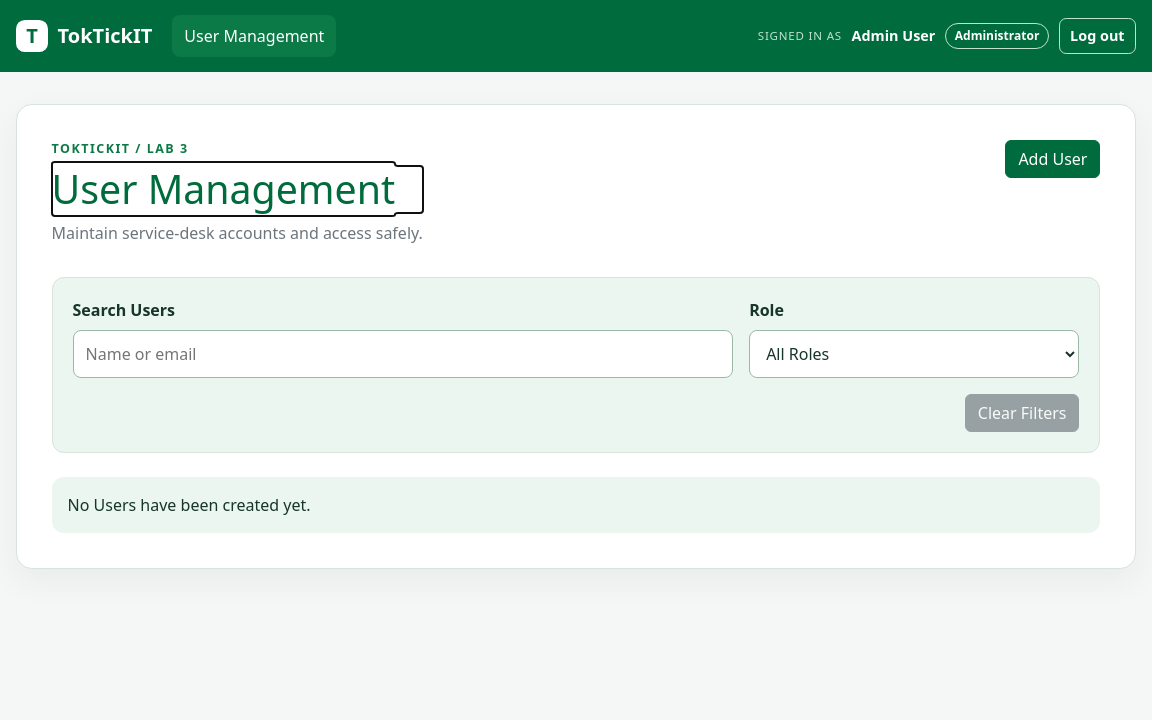
Test case: Lab 3 Administrator User Management screen › distinguishes an empty User list from filtered no-results
Expected: the text "No Users have been created yet." is shown, [52,477,1100,533]
Type "printer" into the search field labelled "Search Users" at coordinates (403, 354), box [72,330,733,378]
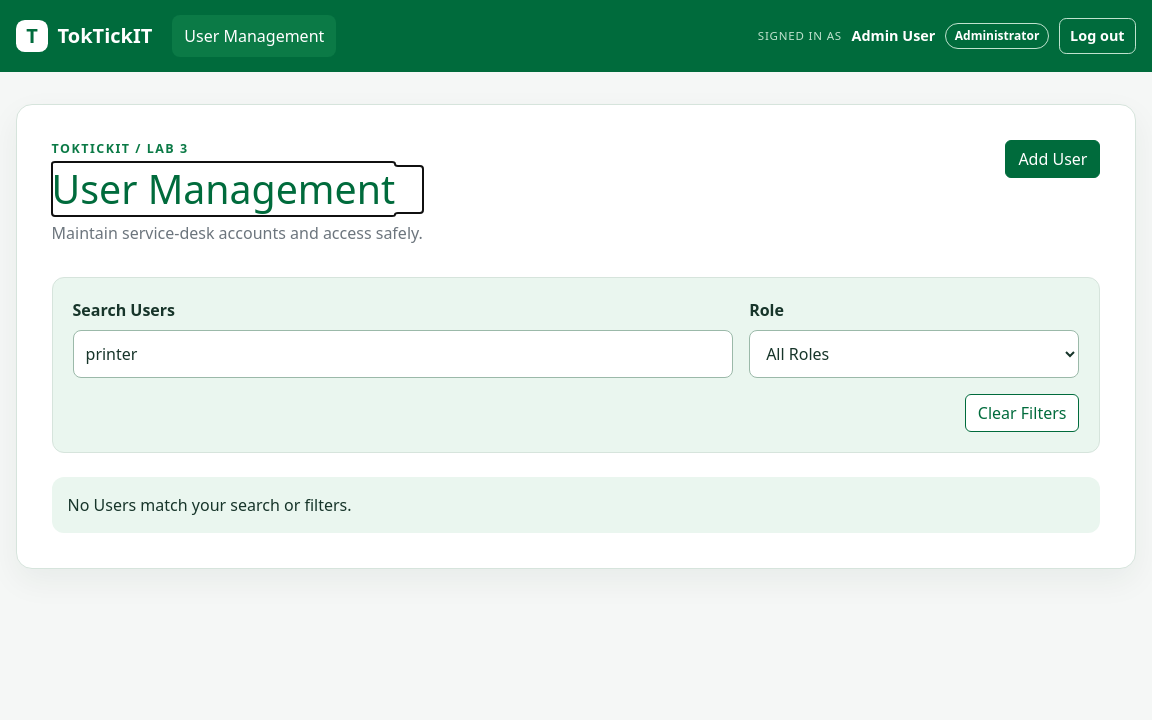
Expected: the text "No Users match your search or filters." is shown, [52,477,1100,533]
